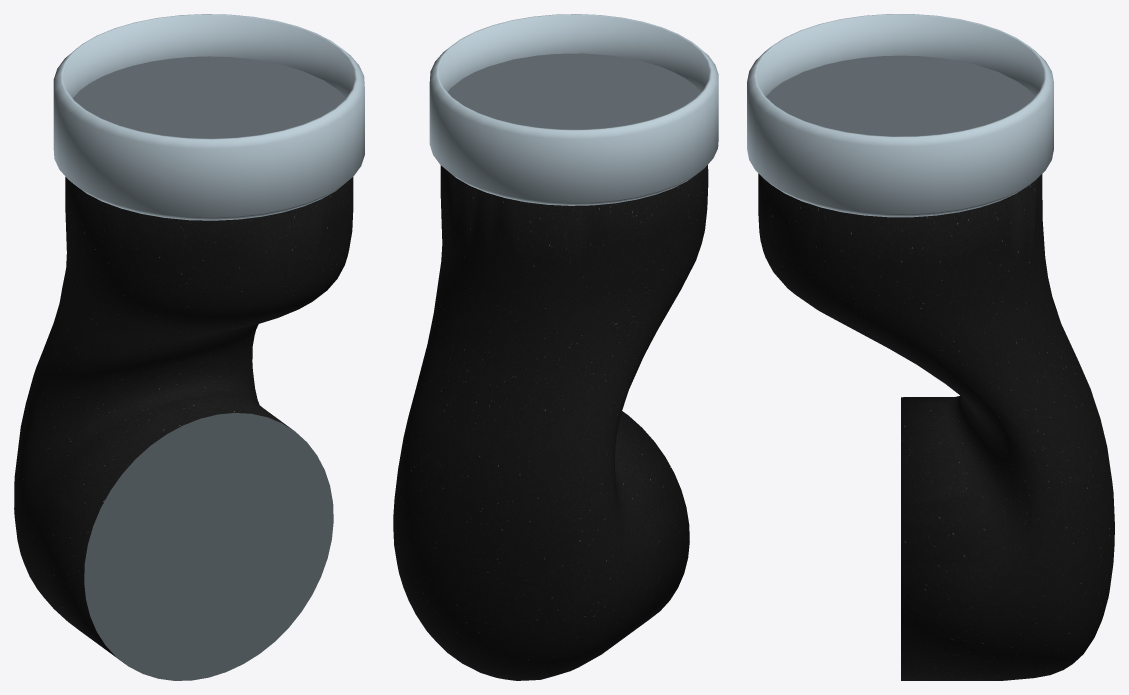
File: wrist_spherical_1.dae
The picture shows the model from 3 angles, left to right: view 1: azimuth 30°, elevation 25°; view 2: azimuth 150°, elevation 25°; view 3: azimuth 270°, elevation 25°; orthographic projection. The views are drawn at different scales.
Visible parts, largest first — view 1: node.006, Ring Small; view 2: node.006, Ring Small; view 3: node.006, Ring Small.
Boxes of the visible parts, x1,y1,x2,y2 form: node.006: (14,56,353,680); Ring Small: (53,14,364,220); node.006: (393,53,708,680); Ring Small: (429,14,718,205); node.006: (758,55,1114,680); Ring Small: (747,14,1053,217).
Size of the model in its own units: 0.0679 by 0.0816 by 0.1449.
Materials: 1 (1 with a texture image).
